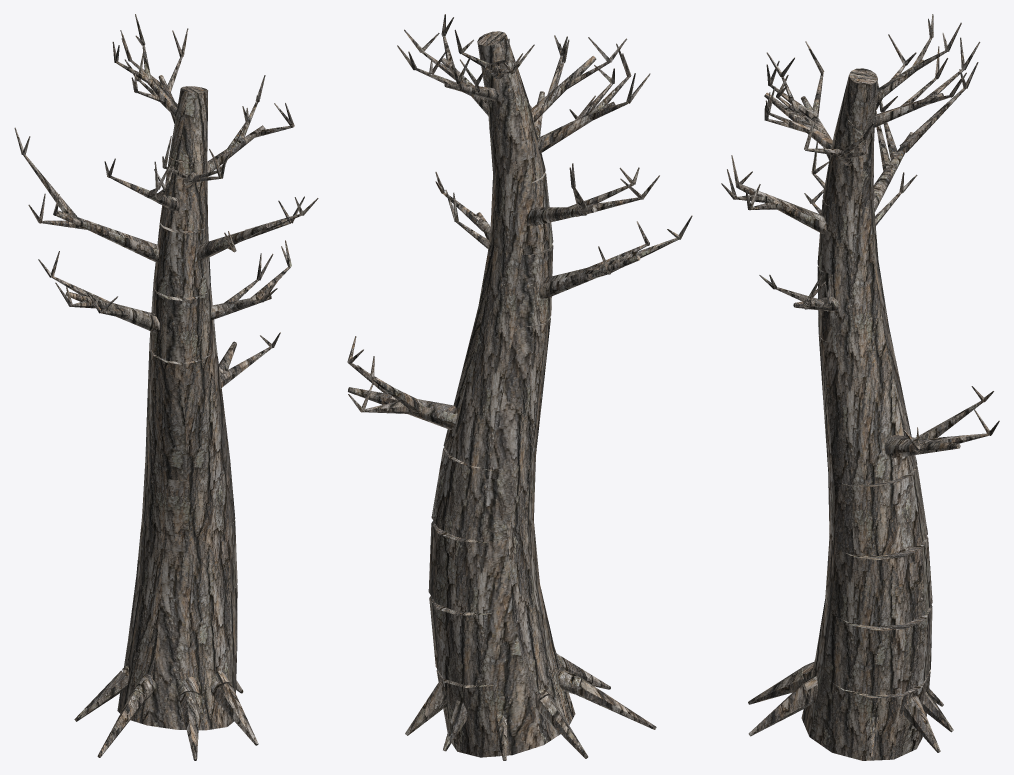
File: broken-crown-v01.glb
3 views of the same model, side by side, from view 1: azimuth 30°, elevation 25°; view 2: azimuth 150°, elevation 25°; view 3: azimuth 270°, elevation 25° (orthographic). The views are drawn at different scales.
Visible parts, largest first — view 1: dead-tree-sway; view 2: dead-tree-sway; view 3: dead-tree-sway.
Part boxes in pixels (x1,y1,x2,y2): dead-tree-sway: (14, 14, 318, 760); dead-tree-sway: (347, 14, 692, 760); dead-tree-sway: (721, 14, 999, 760).
Size of the model in its own units: 3.23 by 7.85 by 2.76.
Materials: 1 (1 with a texture image).
